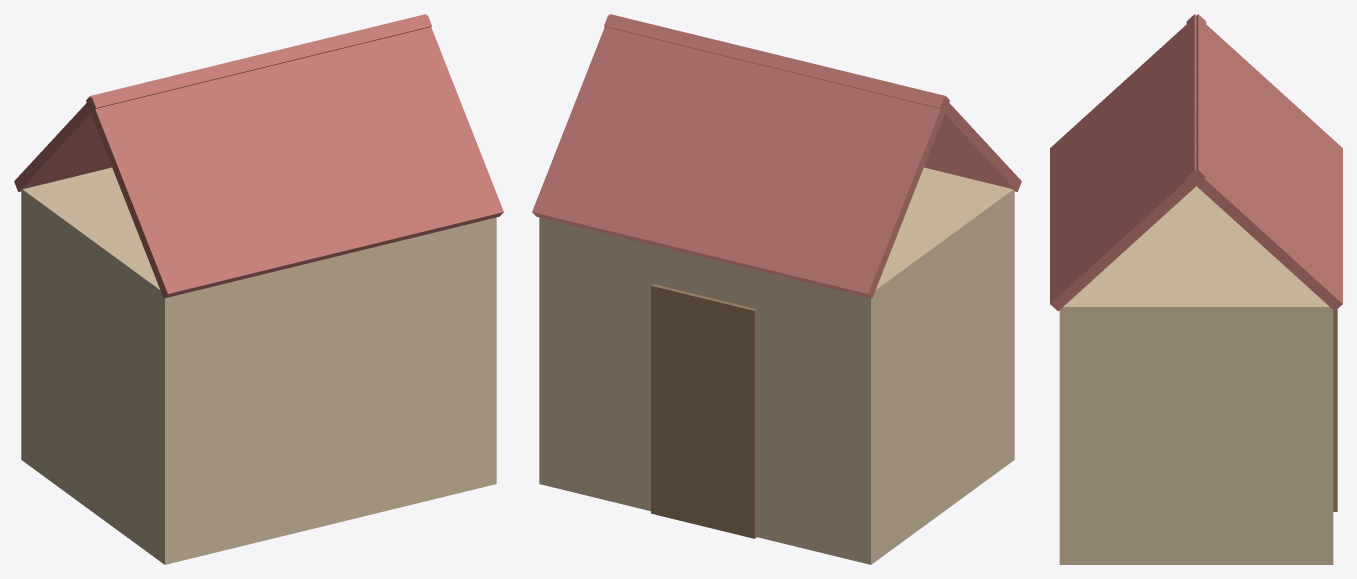
Rendered from shed.glb.
The picture shows the model from 3 angles, left to right: view 1: azimuth 30°, elevation 25°; view 2: azimuth 150°, elevation 25°; view 3: azimuth 270°, elevation 25°; orthographic projection. The views are drawn at different scales.
Visible parts, largest first — view 1: Shed; view 2: Shed; view 3: Shed.
Part boxes in pixels (x1=…): Shed: x1=14, y1=14, x2=503, y2=564; Shed: x1=532, y1=14, x2=1021, y2=564; Shed: x1=1050, y1=14, x2=1342, y2=564.
Size of the model in its own units: 1.62 by 1.92 by 1.29.
